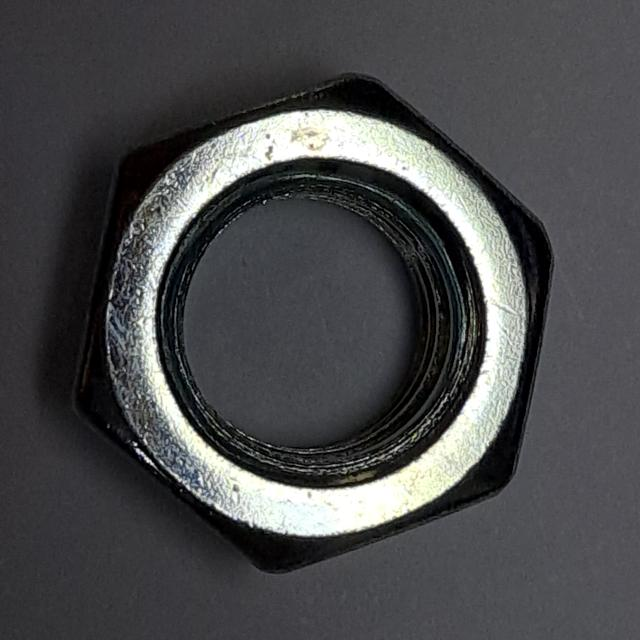Excellent: (51, 61, 570, 592)
